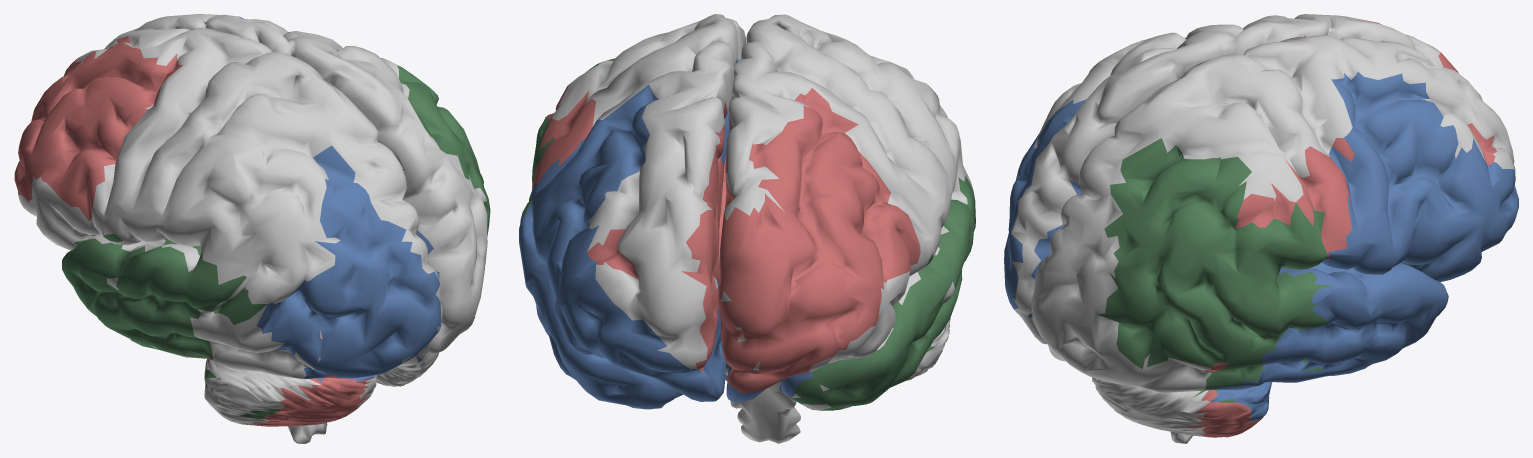
Rendered from brain-simple-mesh.fbx.
3 renders of one model, left to right at view 1: azimuth 30°, elevation 25°; view 2: azimuth 150°, elevation 25°; view 3: azimuth 270°, elevation 25°, orthographic. The views are drawn at different scales.
Parts seen in each view (by area): view 1: default; view 2: default; view 3: default.
Boxes of the visible parts, x1,y1,x2,y2 form: default: (14,14,490,443); default: (519,14,975,443); default: (1004,14,1518,443).
Bounding box in the file's own units: 5.54 × 5.52 × 6.49.
